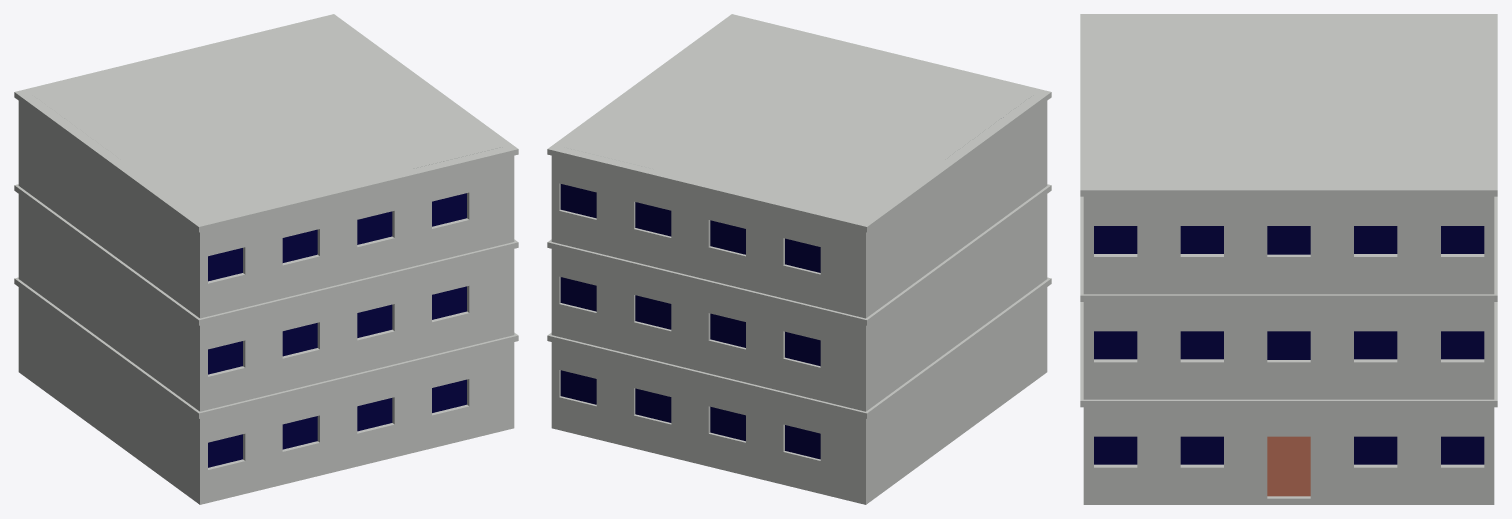
The model's file is Building Model.fbx.
The picture shows the model from 3 angles, left to right: view 1: azimuth 30°, elevation 25°; view 2: azimuth 150°, elevation 25°; view 3: azimuth 270°, elevation 25°; orthographic projection. The views are drawn at different scales.
Parts seen in each view (by area): view 1: Building; view 2: Building; view 3: Building.
Part boxes in pixels (x1,y1,x2,y2): Building: (14, 14, 518, 504); Building: (547, 14, 1051, 504); Building: (1080, 14, 1497, 504).
Size of the model in its own units: 12.2 by 10.2 by 12.2.
